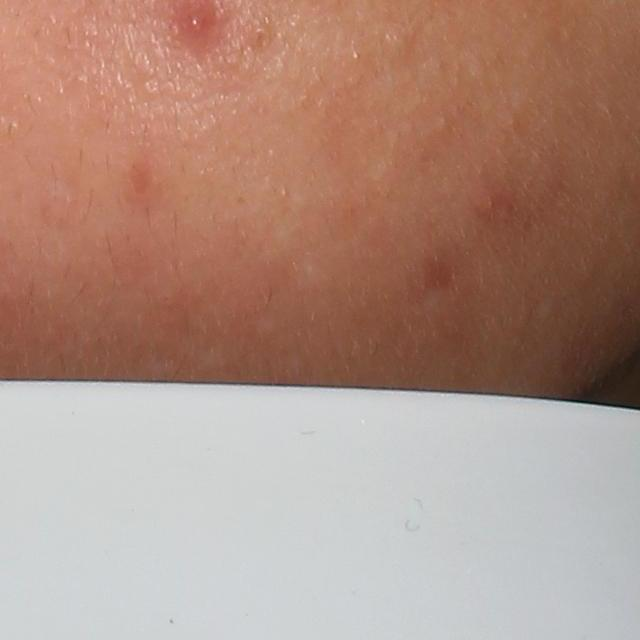papule: (172, 2, 221, 53), (468, 182, 511, 225)
